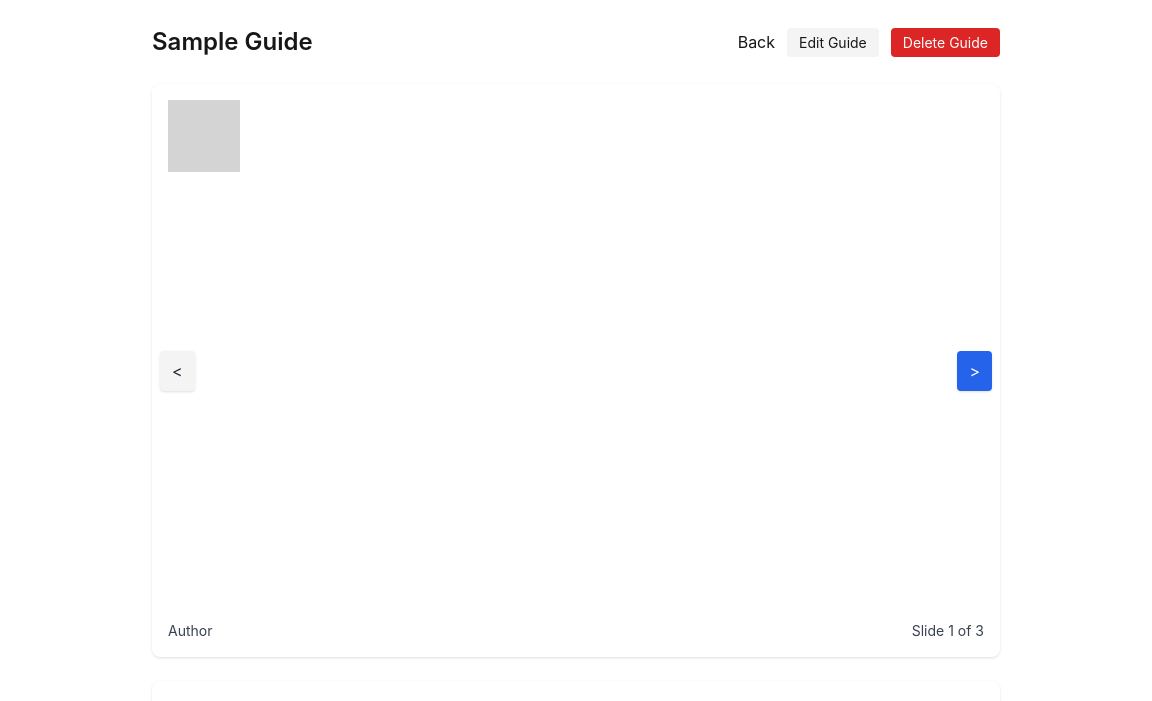
Test: GuideSlidesPage › cycles through slides when navigating next and previous
The image size is (1152, 701).
Expected: the text "Slide 1 of 3" is shown, [912,620,984,641]
Click the button named "Next" at (975,370), box [957,350,992,390]
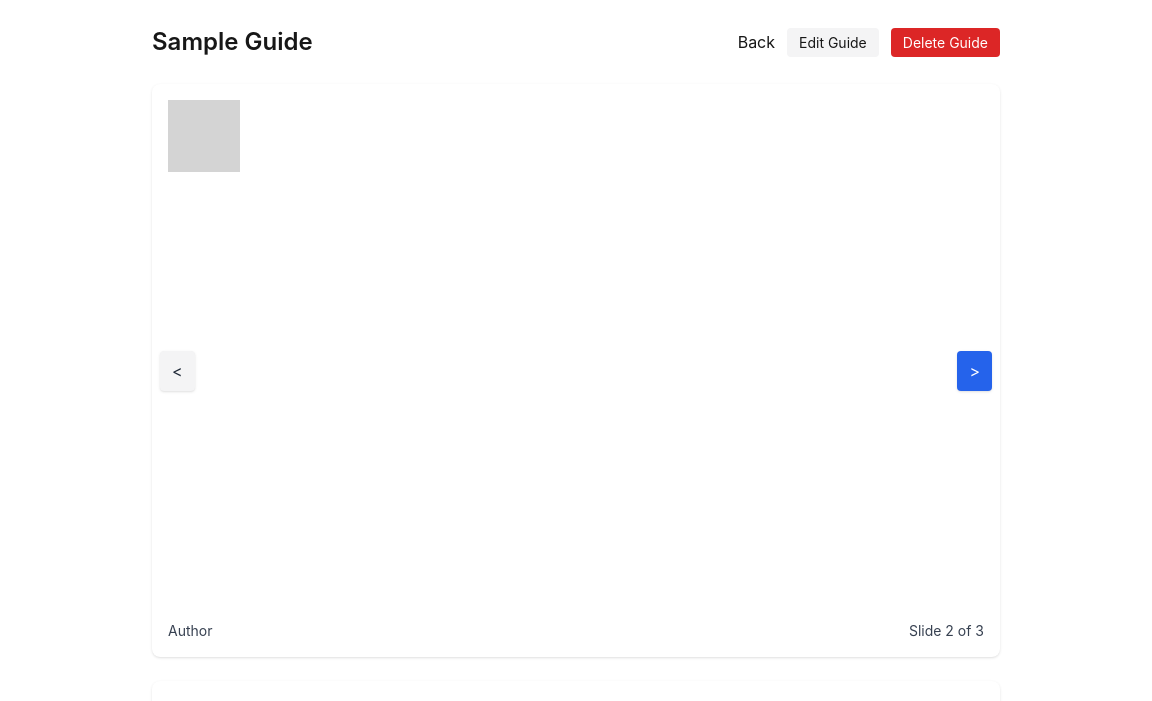
Expected: the text "Slide 2 of 3" is shown, [909,620,984,641]
Click the button named "Next" at (975,370), box [957,350,992,390]
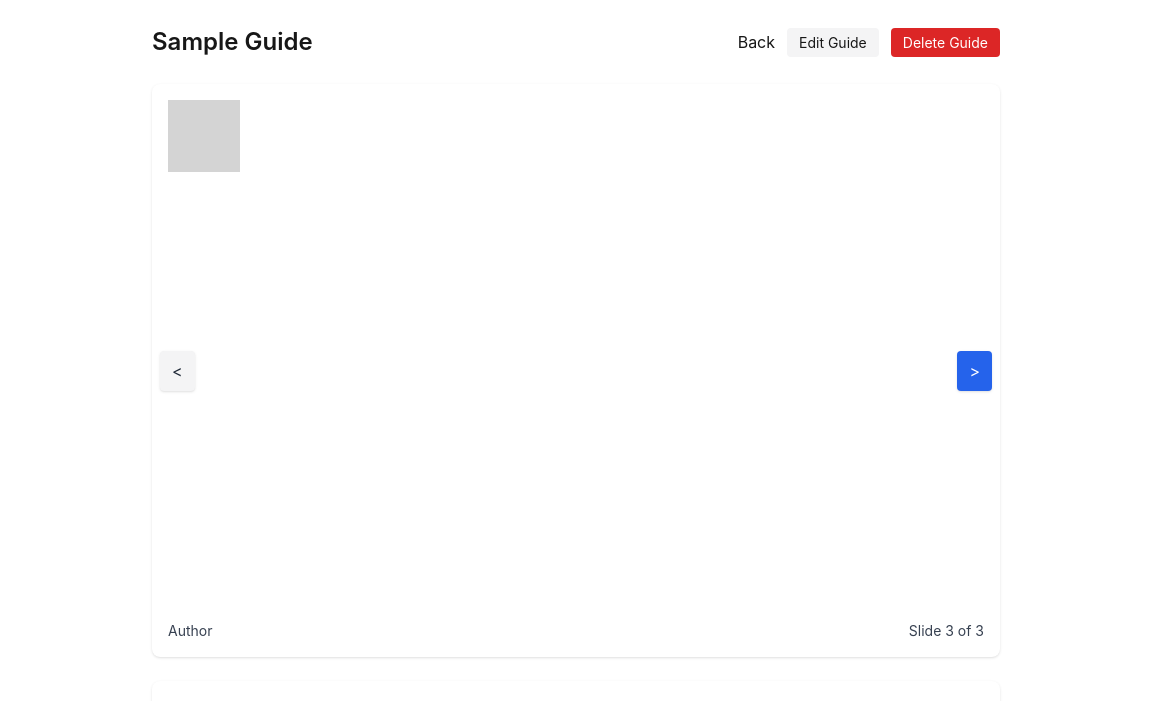
Expected: the text "Slide 3 of 3" is shown, [909,620,984,641]
Click the button named "Next" at (975,370), box [957,350,992,390]
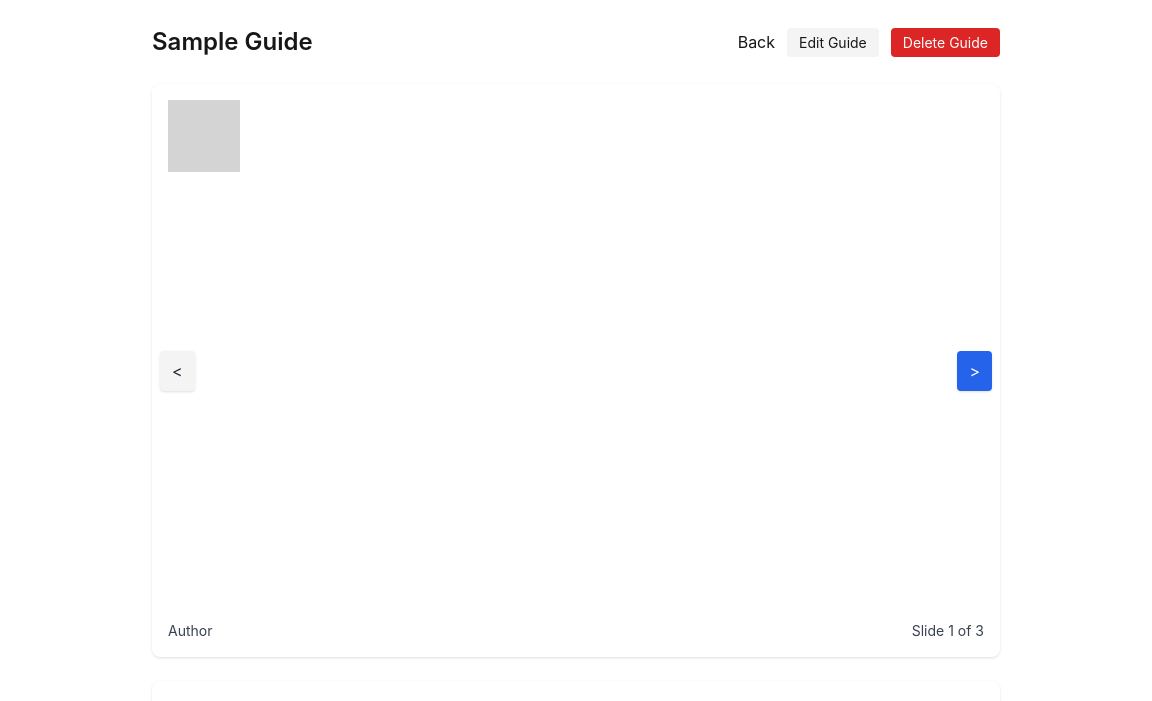
Expected: the text "Slide 1 of 3" is shown, [912,620,984,641]
Click the button named "Previous" at (177,370), box [160,350,195,390]
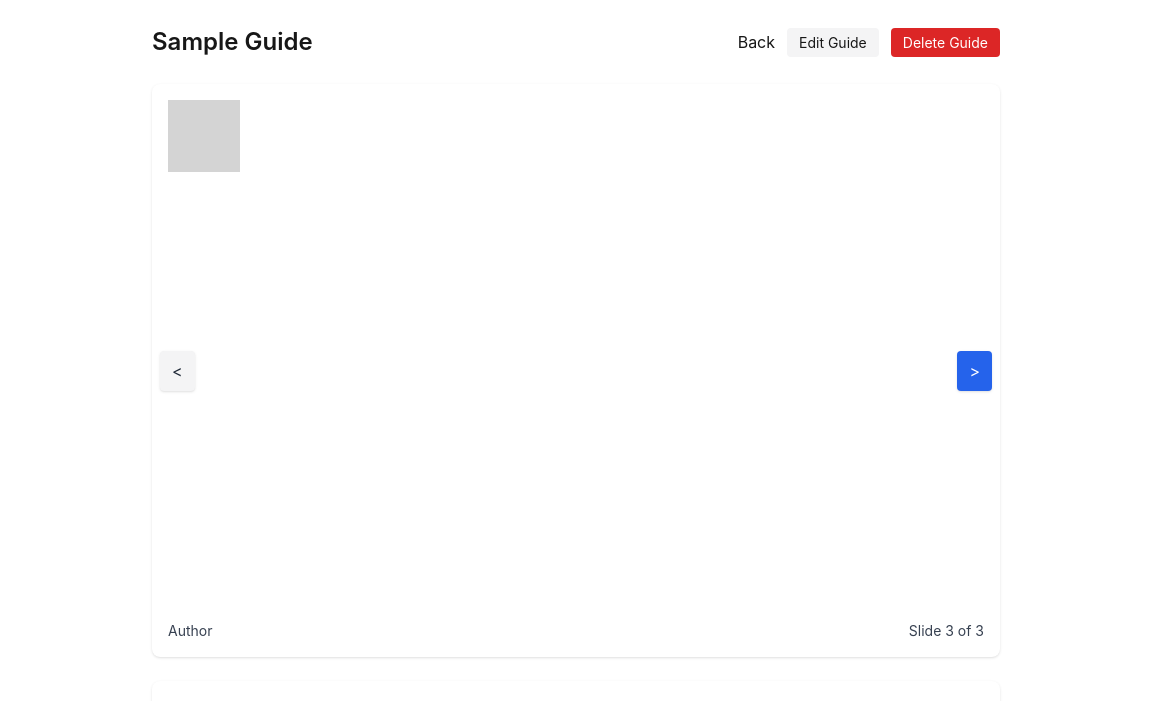
Expected: the text "Slide 3 of 3" is shown, [909,620,984,641]
